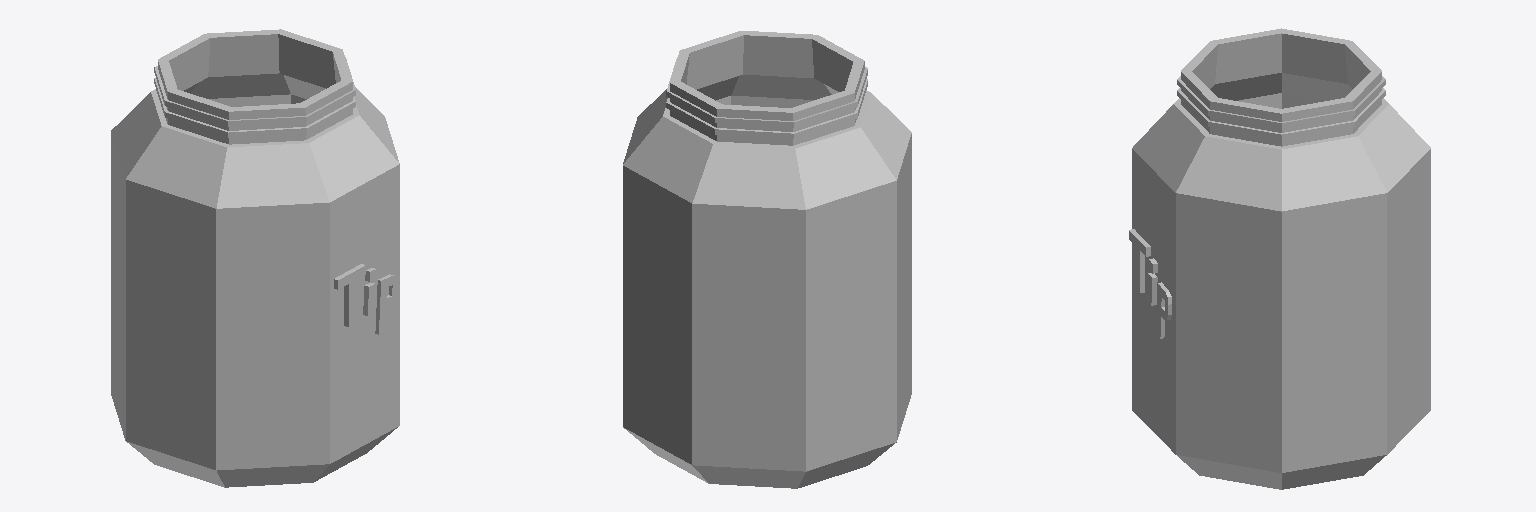
Rendered from Tip_Jar_01 2.obj.
The picture shows the model from 3 angles: view 1: azimuth 30°, elevation 25°; view 2: azimuth 150°, elevation 25°; view 3: azimuth 270°, elevation 25°; orthographic projection.
Parts seen in each view (by area): view 1: Tip_jar_Circle.006; view 2: Tip_jar_Circle.006; view 3: Tip_jar_Circle.006.
Part boxes in pixels (left/top/right/bottom): Tip_jar_Circle.006: left=111, top=29, right=399, bottom=487; Tip_jar_Circle.006: left=623, top=31, right=911, bottom=488; Tip_jar_Circle.006: left=1129, top=28, right=1430, bottom=489.
Bounding box in the file's own units: 10 × 13.62 × 10.1.